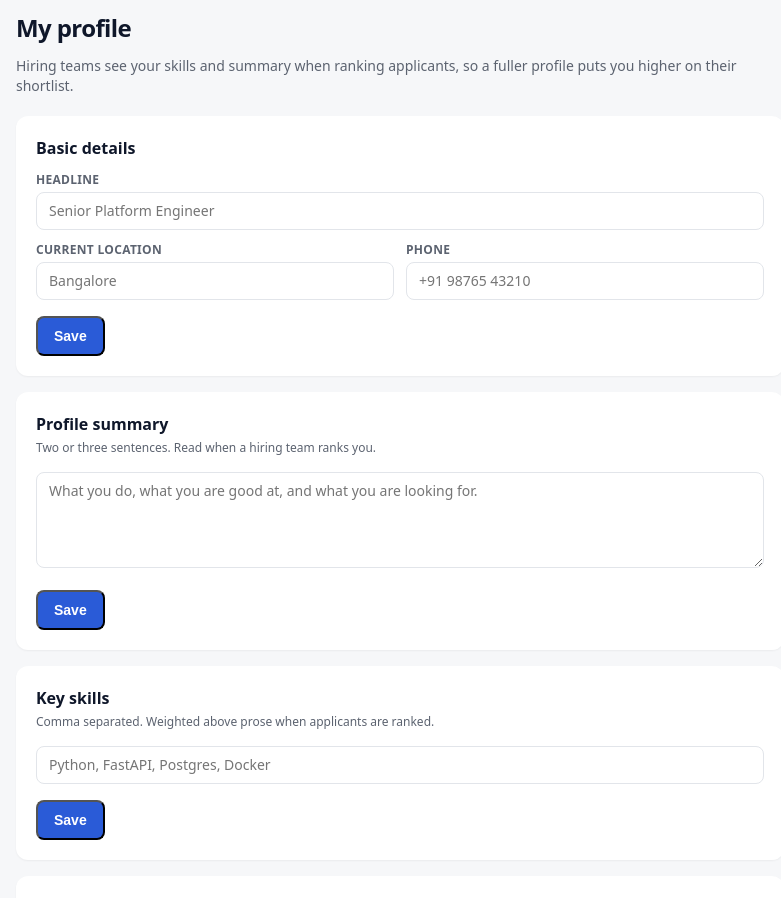
Test: ProfilePage › confirms a save
Expected: the field labelled "Headline" is shown, [36,192,764,230]
Click the button "Save" below "Current location": {"x": 70, "y": 336} [36,316,105,356]
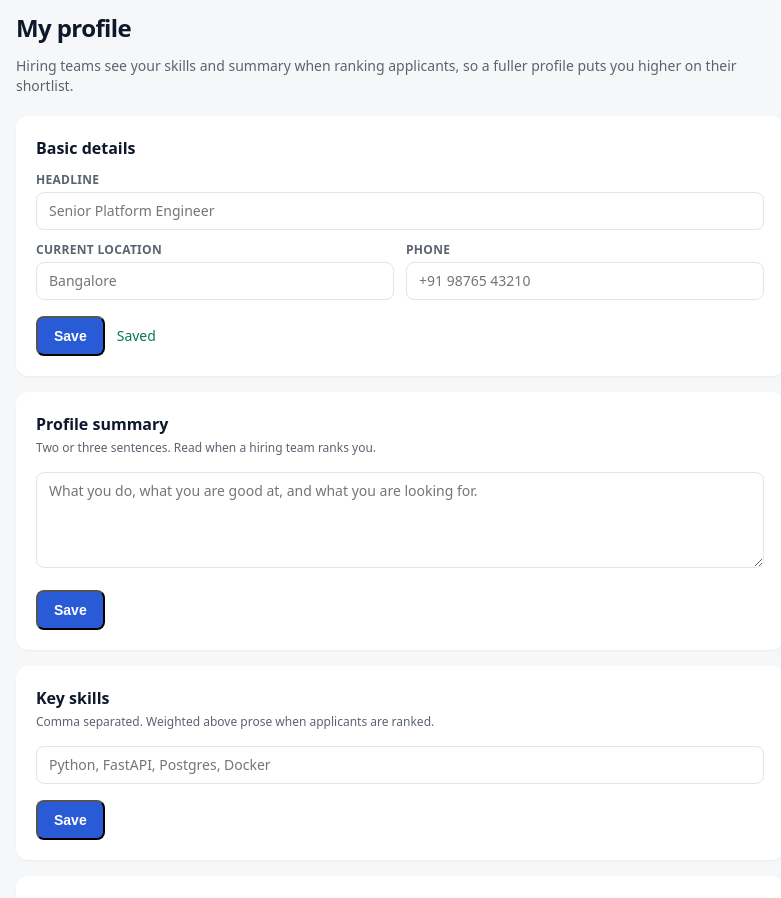
Expected: the text "Saved" is shown, [117,326,156,346]
